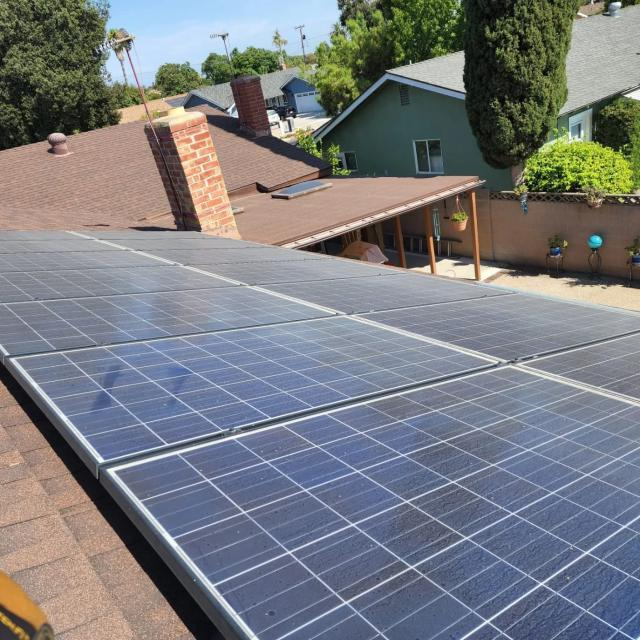dust-solar-panel: (0, 231, 640, 640)
